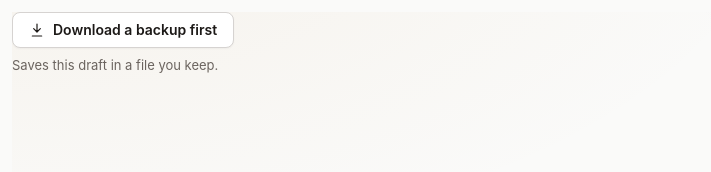
BackupButton › says what it saves, works, then says what it downloaded
This screenshot has width=711, height=172.
Later steps or results of the test are not shown.
Expected: the text "Saves this draft in a file you keep." is shown, 12,57 -> 218,73
Click the button "Download a backup first" at (123, 30), box 12,12 -> 234,48
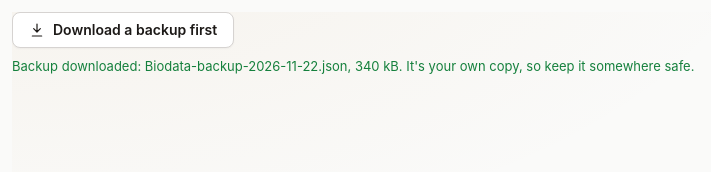
Expected: the text "Backup downloaded: Biodata-backup-2026-11-22.json, 340 kB" shows "keep it somewhere safe", 12,58 -> 694,74
